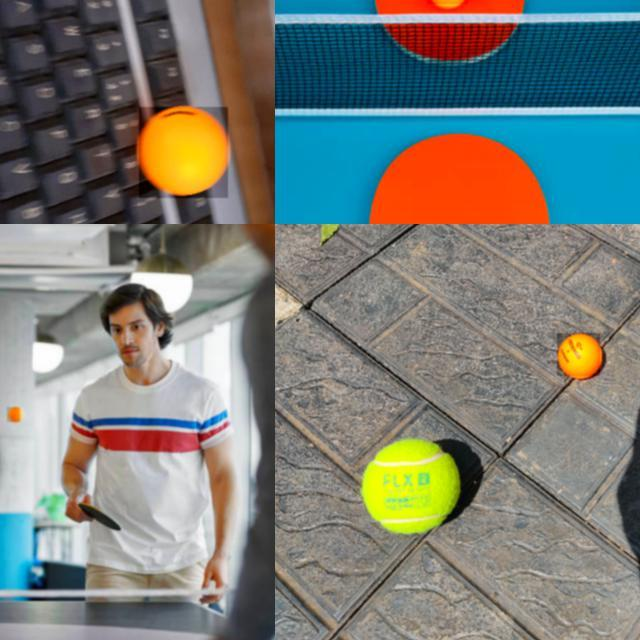ping-pong-ball: (139, 107, 229, 199), (557, 332, 601, 378), (7, 407, 21, 423)
